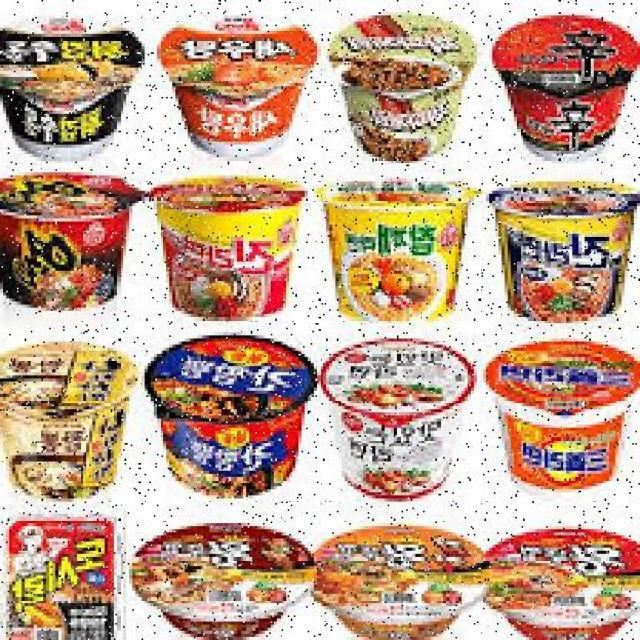Miscellaneous: (134, 333, 312, 499), (309, 170, 486, 328), (147, 10, 316, 156), (312, 333, 472, 487), (149, 174, 311, 320), (113, 524, 315, 638), (324, 10, 482, 155), (0, 338, 135, 507), (495, 6, 640, 160), (308, 523, 496, 640), (0, 6, 151, 151), (467, 517, 640, 640), (0, 169, 151, 308), (487, 338, 630, 482), (492, 178, 640, 317)
